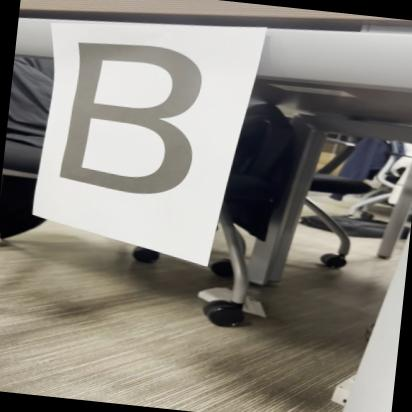seat: (44, 32, 228, 213)
